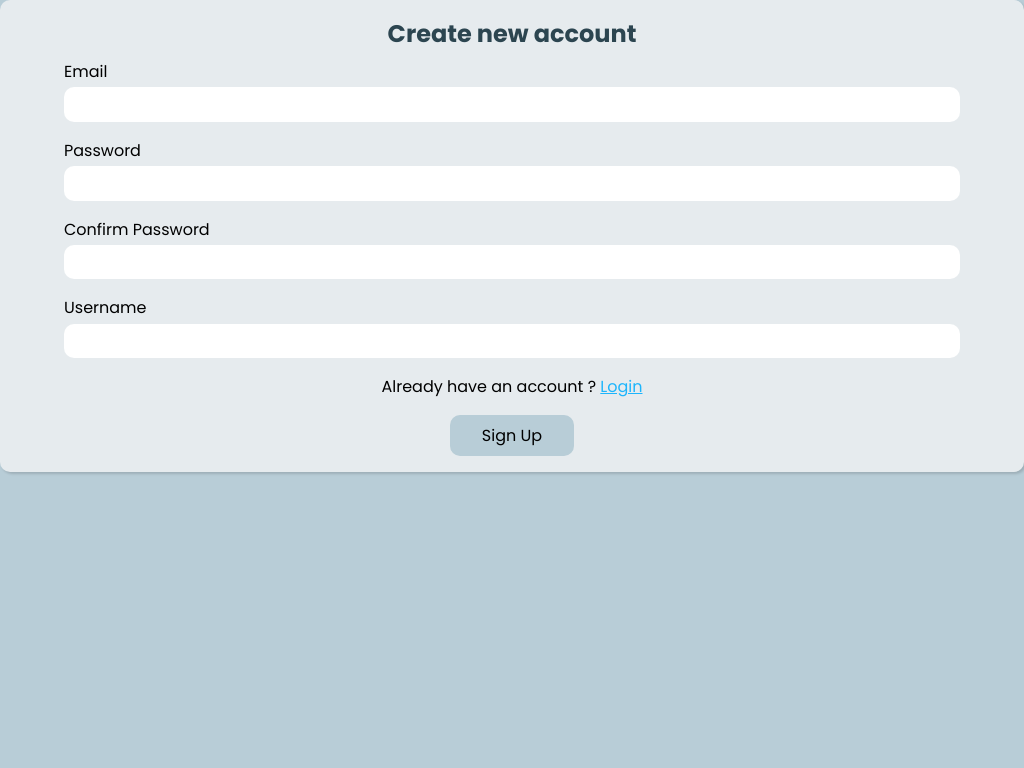
Scenario: (SignUpForm) Component › Should be rendered appropriate error message for each input
The image size is (1024, 768).
In the field with test id "email": point(512, 104) [64,87,960,122], type "invalidEmail"
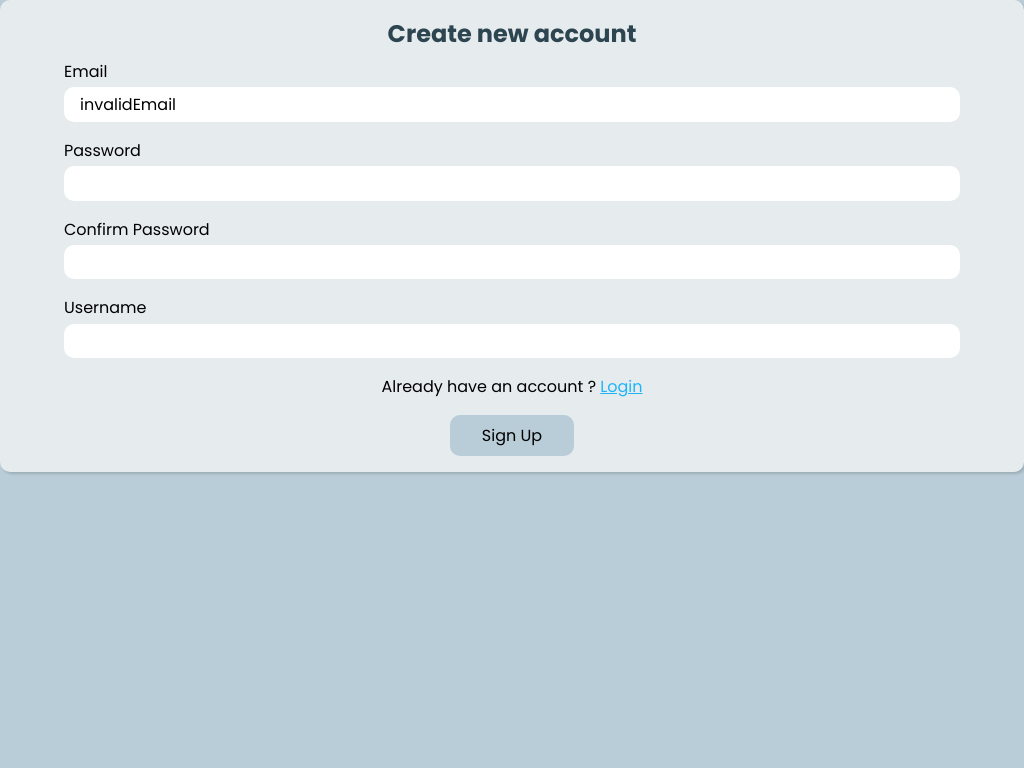
In the password field with test id "password": point(512, 183) [64,166,960,201], type "123456"
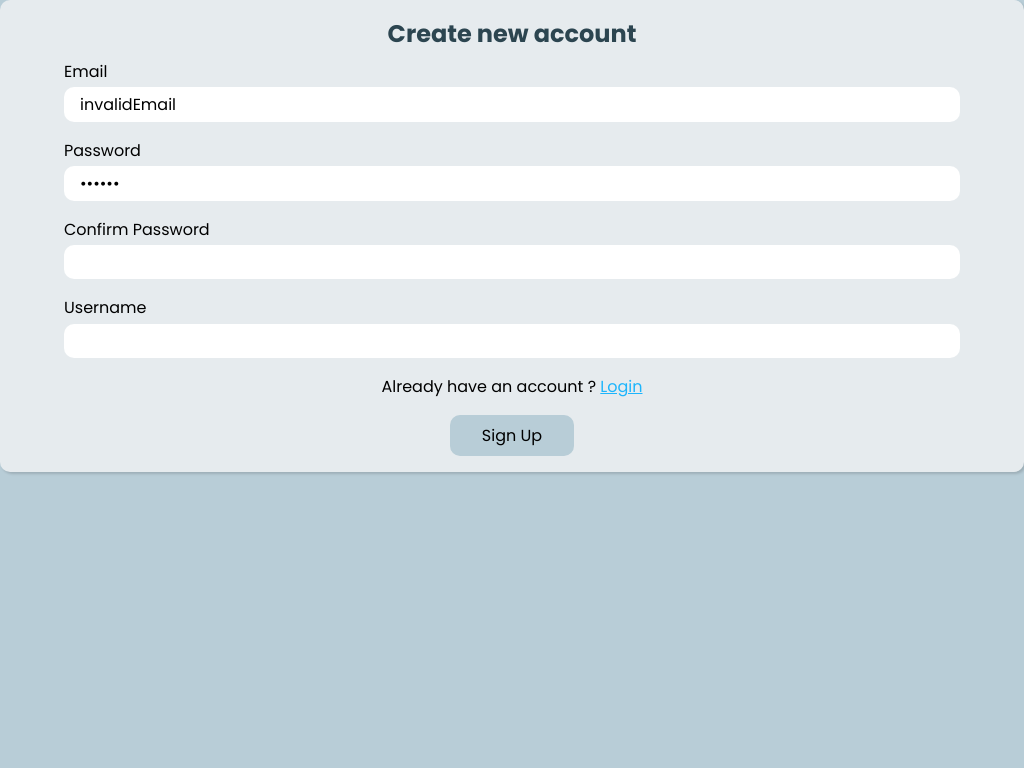
In the password field with test id "confirmPassword": point(512, 262) [64,245,960,279], type "321654"
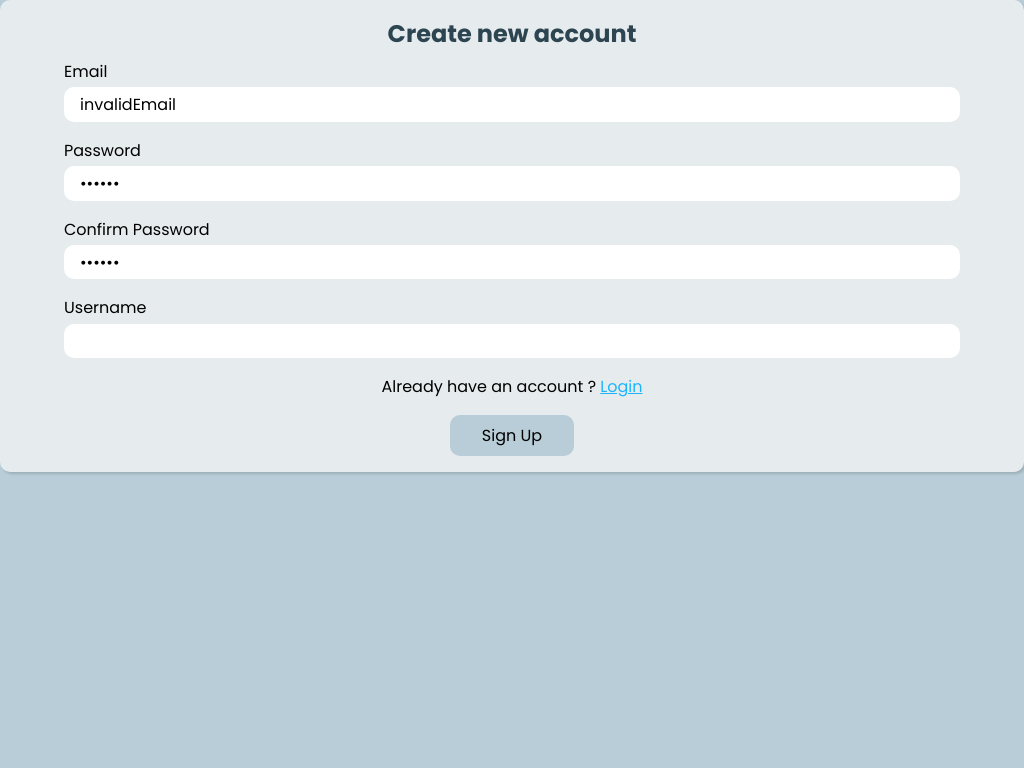
Click the button with test id "signUp-btn": point(512, 436) [450,415,574,456]
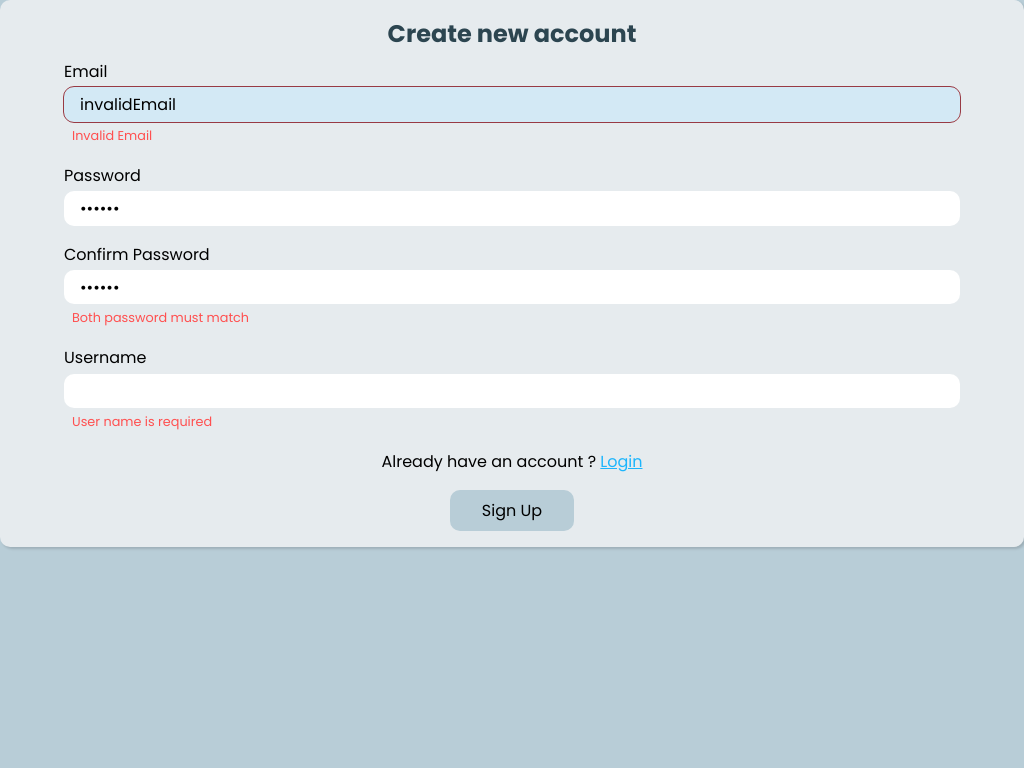
Now the text "Invalid Email" is shown, box [64,127,152,144]
Now the text "Both password must match" is shown, box [64,309,249,326]
Now the text "User name is required" is shown, box [64,413,212,430]
